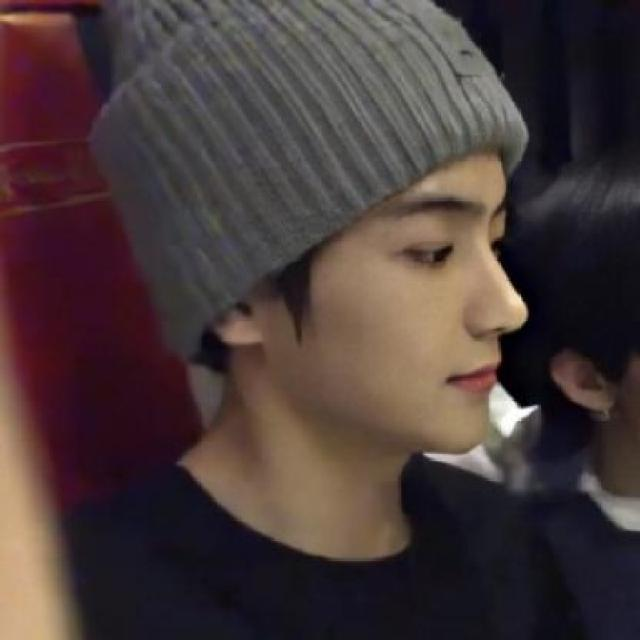hat: (90, 0, 527, 364)
